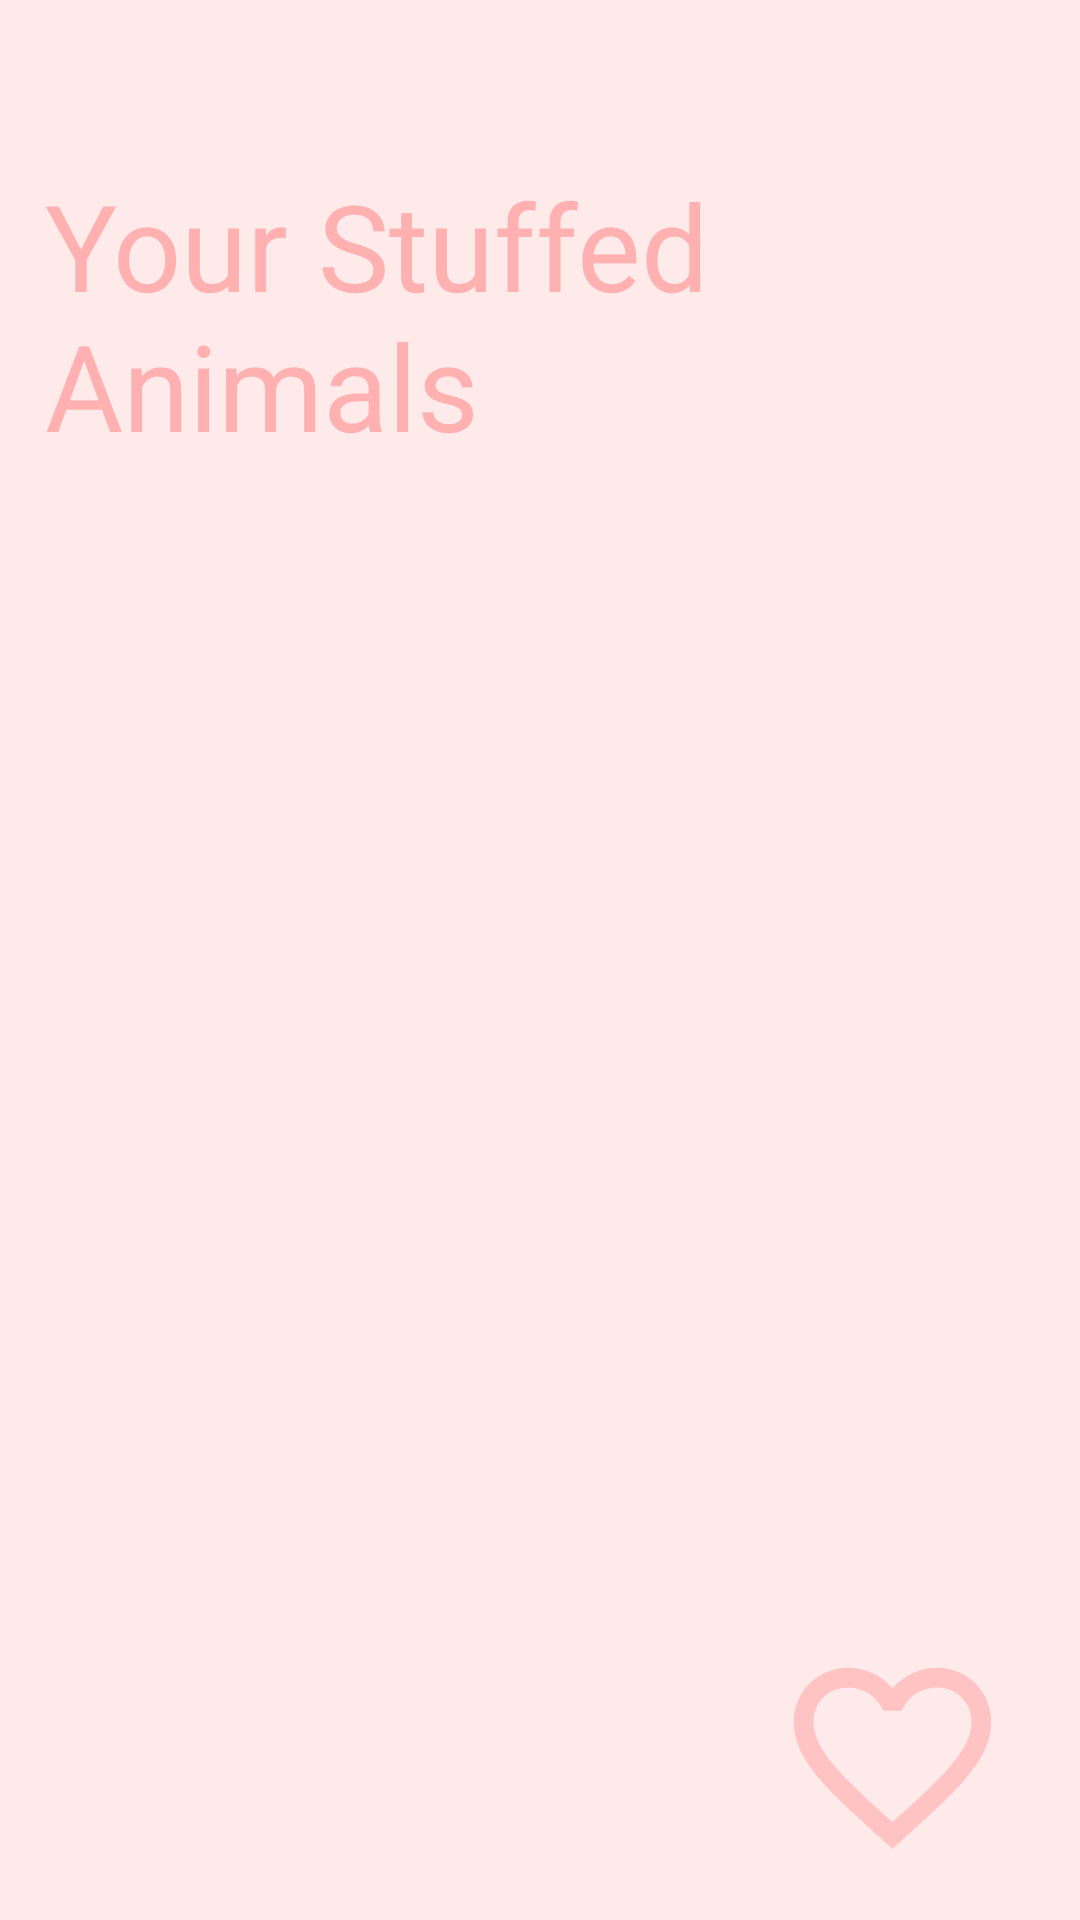

Icons on this 1080px x 1920px Android screen, each with its box as (x1, y1, x2, y2):
heart: (794, 1668, 991, 1848)
